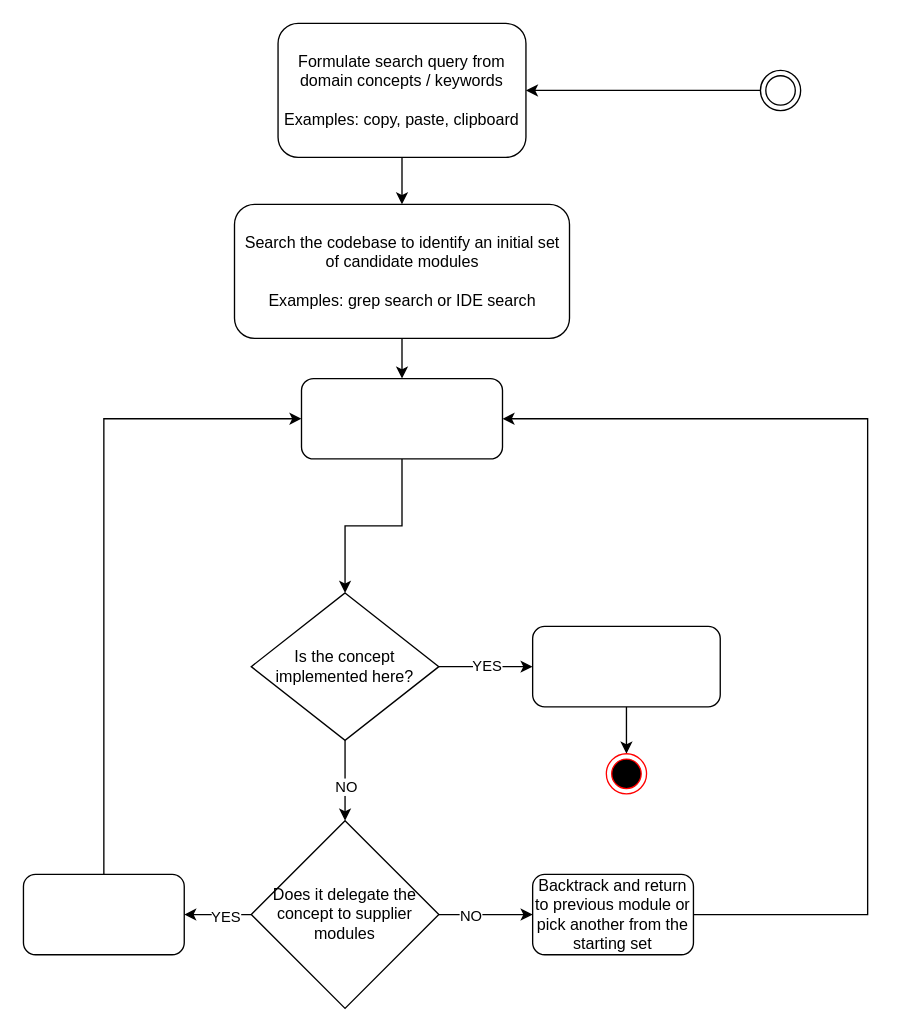
Image size: 902x1032. Some labels were removed from this diagram. Here are the shapes that lost their labels. From the top down, the box of each, then its label:
(300, 377, 503, 459): Inspect selected module
(531, 625, 720, 707): Marked as located and record it in the concept-location table
(22, 873, 184, 955): Follow dependencies: visit supplier modules
